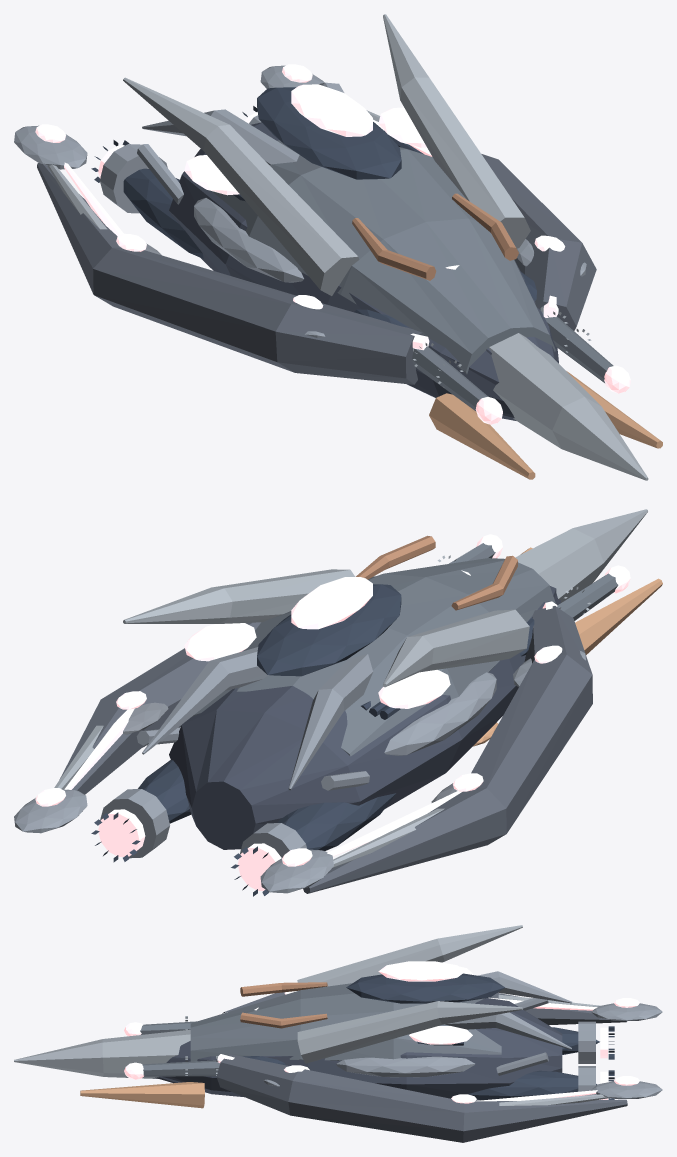
File: npc_bossSaimon.glb
The picture shows the model from 3 angles, top to bottom: view 1: azimuth 30°, elevation 25°; view 2: azimuth 150°, elevation 25°; view 3: azimuth 270°, elevation 25°; orthographic projection. The views are drawn at different scales.
Visible parts, largest first — view 1: upper_armor_scar, armored_scythe_-1, prime_arch_back_-1, zyron_stinger, prime_arch_back_1, keel_pressure_hull, armored_scythe_1, prime_reactor_tower, heavy_shield_pad_-1, prime_secondary_horn_-1, prime_emitter, engine_armor_-1 (+14 smaller); view 2: keel_pressure_hull, armored_scythe_-1, upper_armor_scar, prime_reactor_tower, prime_arch_back_1, prime_arch_back_-1, armored_scythe_1, zyron_stinger, zyron_upper_blade_-1, heavy_shield_pad_-1, zyron_upper_blade_1, engine_armor_-1 (+20 smaller); view 3: armored_scythe_1, upper_armor_scar, keel_pressure_hull, prime_arch_back_1, zyron_stinger, prime_arch_back_-1, prime_reactor_tower, heavy_shield_pad_1, prime_secondary_horn_1, engine_armor_1, prime_emitter, zyron_upper_blade_1 (+16 smaller).
Part boxes in pixels (bbox=[...]): upper_armor_scar: bbox=[212, 140, 555, 374]; armored_scythe_-1: bbox=[37, 163, 422, 384]; prime_arch_back_-1: bbox=[123, 77, 359, 295]; zyron_stinger: bbox=[489, 333, 648, 480]; prime_arch_back_1: bbox=[383, 14, 530, 248]; keel_pressure_hull: bbox=[169, 122, 558, 420]; armored_scythe_1: bbox=[481, 154, 596, 330]; prime_reactor_tower: bbox=[257, 87, 401, 179]; heavy_shield_pad_-1: bbox=[194, 198, 303, 282]; prime_secondary_horn_-1: bbox=[429, 393, 535, 479]; prime_emitter: bbox=[291, 84, 372, 136]; engine_armor_-1: bbox=[123, 168, 203, 258]; keel_pressure_hull: bbox=[169, 586, 561, 849]; armored_scythe_-1: bbox=[303, 606, 592, 893]; upper_armor_scar: bbox=[192, 558, 555, 756]; prime_reactor_tower: bbox=[257, 584, 401, 676]; prime_arch_back_1: bbox=[123, 569, 354, 623]; prime_arch_back_-1: bbox=[382, 609, 529, 687]; armored_scythe_1: bbox=[59, 576, 375, 794]; zyron_stinger: bbox=[515, 509, 647, 602]; zyron_upper_blade_-1: bbox=[288, 654, 373, 790]; heavy_shield_pad_-1: bbox=[384, 672, 496, 755]; zyron_upper_blade_1: bbox=[142, 647, 267, 754]; engine_armor_-1: bbox=[277, 793, 395, 850]; armored_scythe_1: bbox=[216, 1054, 627, 1142]; upper_armor_scar: bbox=[190, 983, 501, 1061]; keel_pressure_hull: bbox=[155, 998, 562, 1098]; prime_arch_back_1: bbox=[297, 1001, 522, 1063]; zyron_stinger: bbox=[14, 1029, 190, 1078]; prime_arch_back_-1: bbox=[297, 925, 522, 986]; prime_reactor_tower: bbox=[346, 973, 504, 1003]; heavy_shield_pad_1: bbox=[336, 1056, 474, 1077]; prime_secondary_horn_1: bbox=[80, 1082, 204, 1108]; engine_armor_1: bbox=[468, 1070, 596, 1100]; prime_emitter: bbox=[378, 961, 465, 981]; zyron_upper_blade_1: bbox=[445, 1012, 571, 1049].
Bounding box in the file's own units: 2.81 × 1.29 × 5.85.
